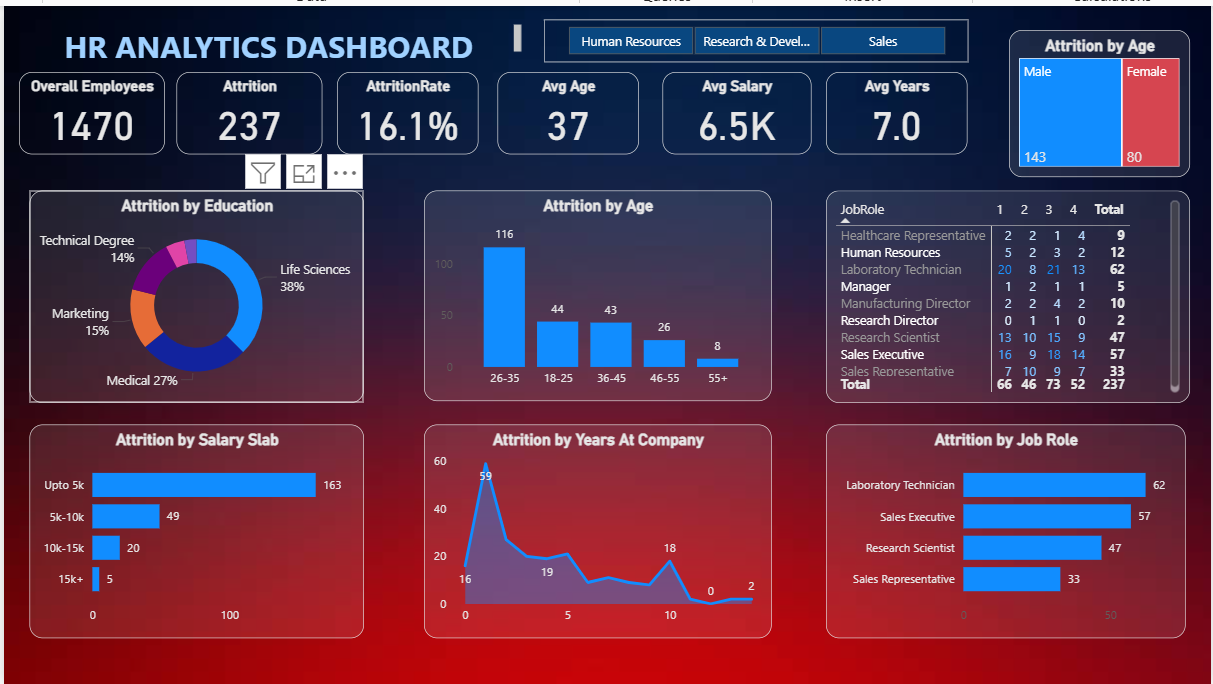

What the dashboard file says about the page in this screenshot:
{"tool":"powerbi","page":{"name":"Page 1","canvas":[1280,720],"ordinal":0},"visuals":[{"type":"card","title":"Overall Employees","fields":{"Values":["CountNonNull(HR_Analytics.EmpID)"]},"box":[15.6,70.3,154.7,87.5],"z":0},{"type":"card","title":"Attrition","fields":{"Values":["Sum(HR_Analytics.AttritionCount)"]},"box":[182.8,70.3,154.7,87.5],"z":1},{"type":"card","title":"Avg Age","fields":{"Values":["Avg(HR_Analytics.Age)"]},"box":[523.4,70.3,150,87.5],"z":3},{"type":"card","title":"AttritionRate","fields":{"Values":["HR_Analytics.AttritionRate"]},"box":[353.1,70.3,150,87.5],"z":4},{"type":"card","title":"Avg Salary","fields":{"Values":["Avg(HR_Analytics.MonthlyIncome)"]},"box":[698.4,70.3,157.8,87.5],"z":5},{"type":"card","title":"Avg Years","fields":{"Values":["Avg(HR_Analytics.YearsAtCompany)"]},"box":[871.9,70.3,150,87.5],"z":6},{"type":"donutChart","title":"Attrition by Education","fields":{"Category":["HR_Analytics.EducationField"],"Y":["Sum(HR_Analytics.AttritionCount)"]},"box":[26.6,195.3,354.7,225],"z":7},{"type":"columnChart","title":"Attrition by Age","fields":{"Category":["HR_Analytics.AgeGroup"],"Y":["Sum(HR_Analytics.AttritionCount)"]},"box":[445.3,195.3,368.8,223.4],"z":8},{"type":"pivotTable","fields":{"Rows":["HR_Analytics.JobRole"],"Columns":["HR_Analytics.JobSatisfaction"],"Values":["Sum(HR_Analytics.AttritionCount)"]},"box":[871.9,195.3,385.9,225],"z":9},{"type":"barChart","title":"Attrition by Salary Slab","fields":{"Category":["HR_Analytics.SalarySlab"],"Y":["Sum(HR_Analytics.AttritionCount)"]},"box":[26.6,443.8,354.7,226.6],"z":10},{"type":"barChart","title":"Attrition by Job Role","fields":{"Y":["Sum(HR_Analytics.AttritionCount)"],"Category":["HR_Analytics.JobRole"]},"box":[871.9,443.8,381.2,226.6],"z":11},{"type":"areaChart","title":"Attrition by Years At Company","fields":{"Category":["HR_Analytics.YearsAtCompany"],"Y":["Sum(HR_Analytics.AttritionCount)"]},"box":[445.3,443.8,368.8,226.6],"z":12},{"type":"treemap","title":"Attrition by Age","fields":{"Group":["HR_Analytics.Gender"],"Values":["Sum(HR_Analytics.AttritionCount)"]},"box":[1065.6,25,192.2,156.2],"z":13},{"type":"slicer","fields":{"Values":["HR_Analytics.Department"]},"box":[571.9,14.1,450,45.3],"z":14},{"type":"textbox","box":[15.6,14.1,537.5,45.3],"z":15}]}

Visuals, with their boxes on the page's 1280x720 design canvas (x1, y1, x2, y2). These are canvas units, not pixel positions in the 1213x684 screenshot, which may show the page scaled, cropped or inside an application window:
"Overall Employees" card: [16,70,170,158]
"Attrition" card: [183,70,338,158]
"Avg Age" card: [523,70,673,158]
"AttritionRate" card: [353,70,503,158]
"Avg Salary" card: [698,70,856,158]
"Avg Years" card: [872,70,1022,158]
"Attrition by Education" donutChart: [27,195,381,420]
"Attrition by Age" columnChart: [445,195,814,419]
pivotTable - HR_Analytics.JobRole x HR_Analytics.JobSatisfaction: [872,195,1258,420]
"Attrition by Salary Slab" barChart: [27,444,381,670]
"Attrition by Job Role" barChart: [872,444,1253,670]
"Attrition by Years At Company" areaChart: [445,444,814,670]
"Attrition by Age" treemap: [1066,25,1258,181]
slicer - HR_Analytics.Department: [572,14,1022,59]
textbox: [16,14,553,59]
